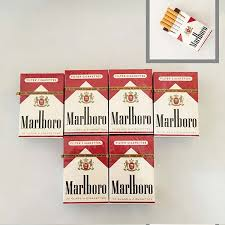marlboro: (108, 136, 154, 204), (62, 136, 107, 204), (154, 73, 200, 137), (18, 74, 64, 137), (64, 70, 108, 135), (109, 71, 154, 134)
